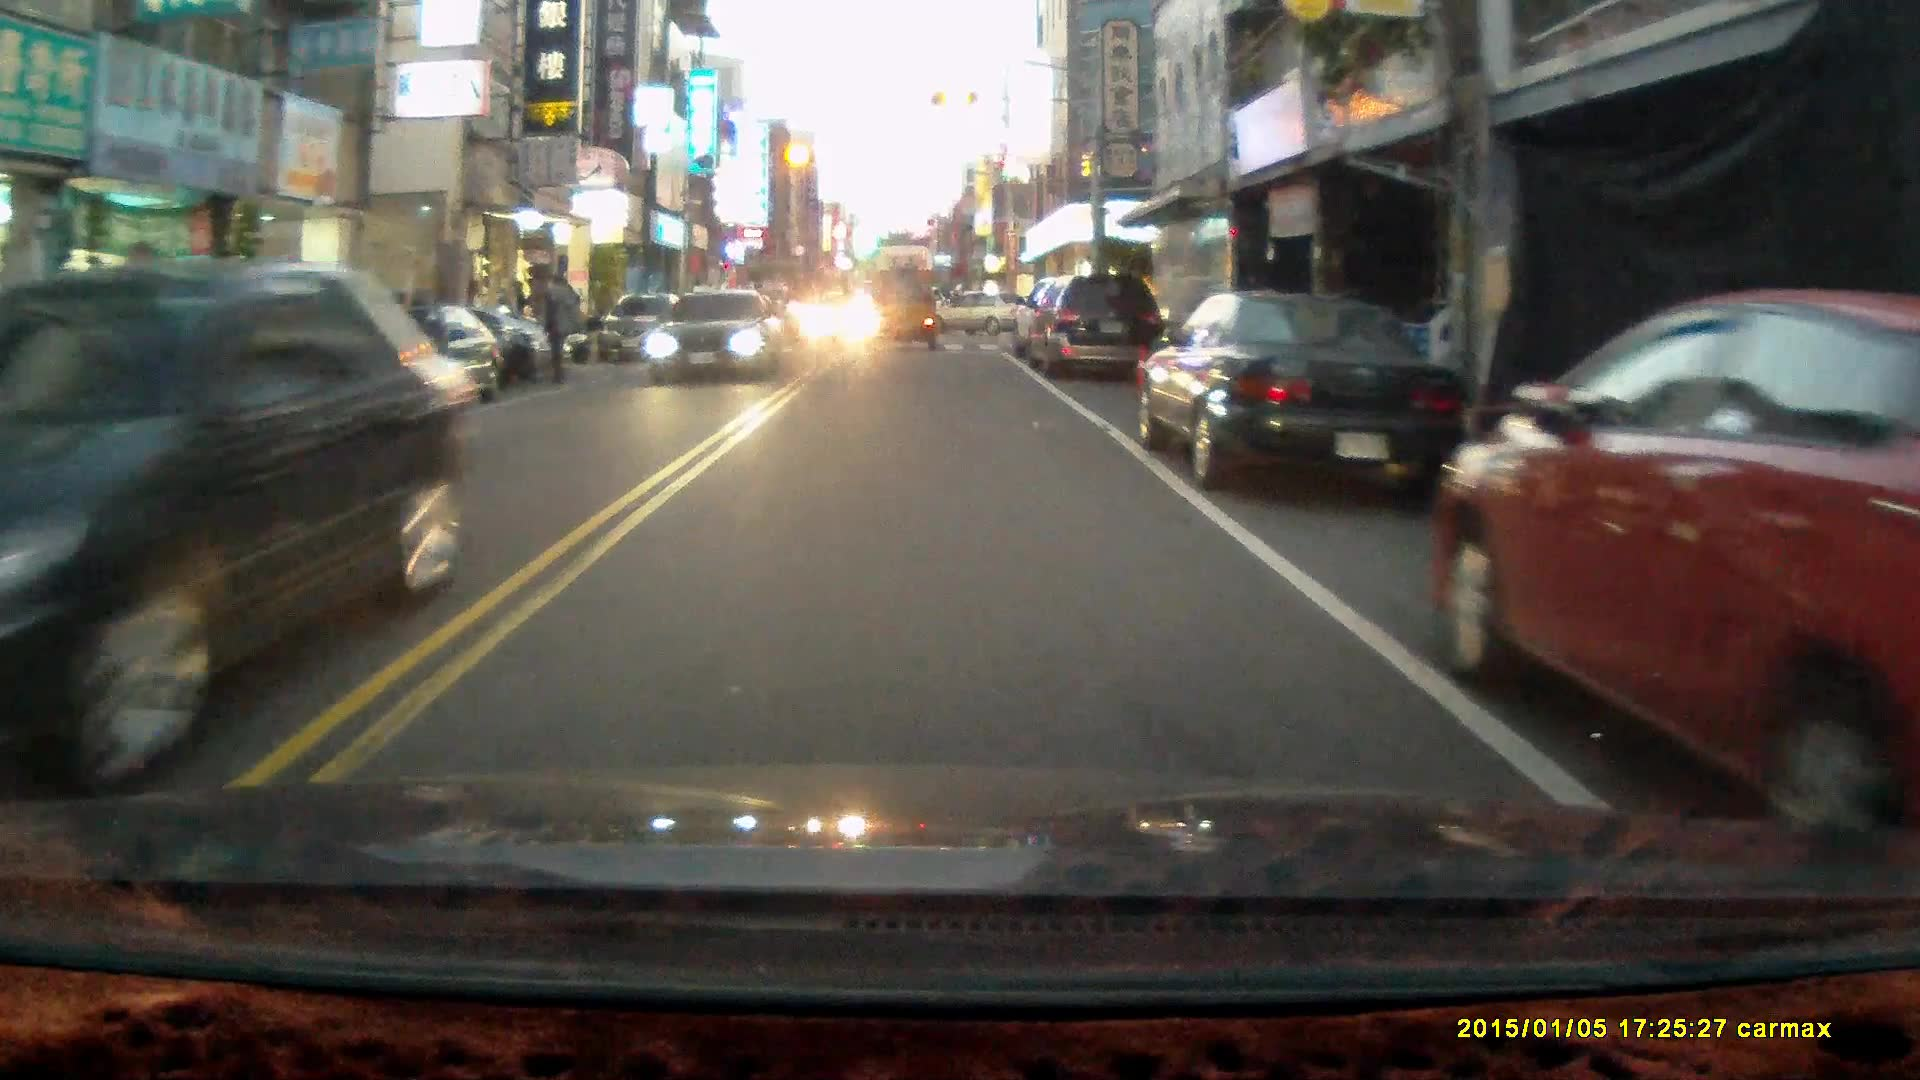pedestrian: (539, 268, 579, 386)
vehicle: (1435, 287, 1920, 828), (11, 257, 474, 801), (1135, 288, 1470, 504), (1021, 274, 1168, 382), (648, 286, 783, 384), (922, 286, 1051, 340), (600, 288, 695, 355), (867, 270, 938, 353)
